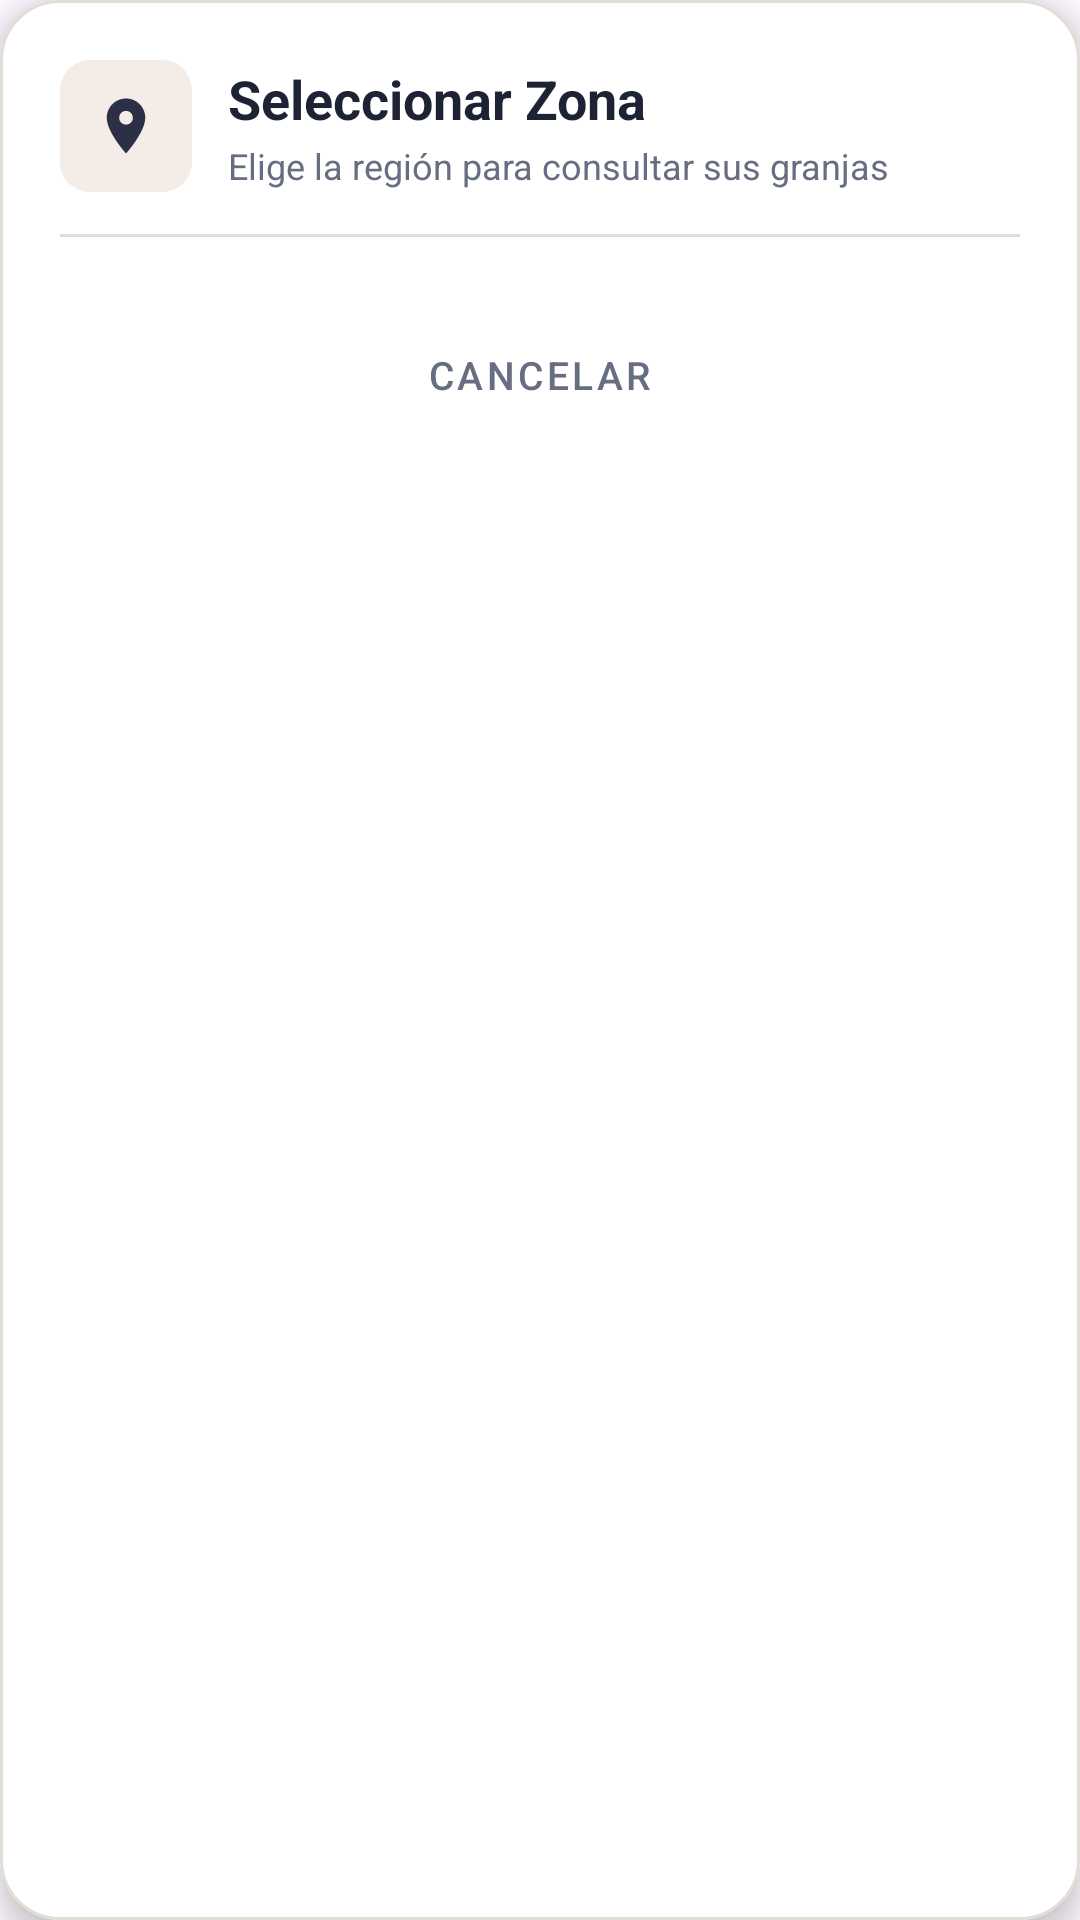

Screen size 1080 x 1920. Icon name, then its box in pixels as (x1, y1, x2, y2):
Ubicación: (106, 98, 146, 153)
